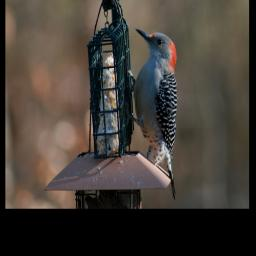Woodpecker: (125, 24, 178, 200)
